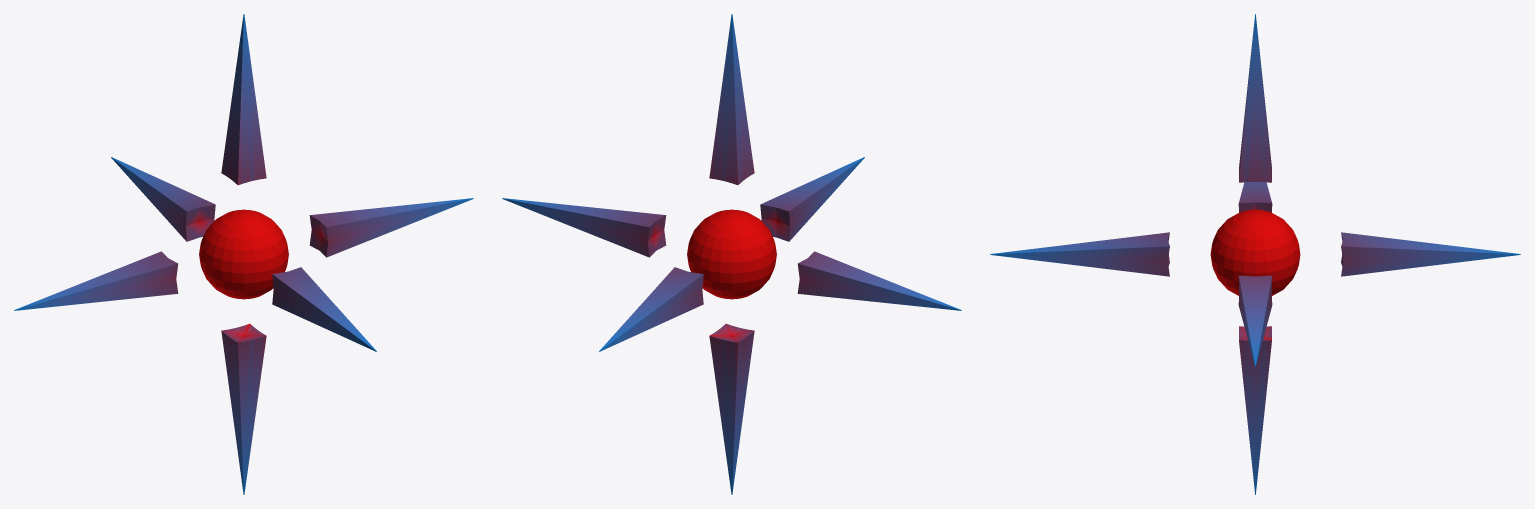
Rendered from joe.fbx.
3 views of the same model, side by side, from view 1: azimuth 30°, elevation 25°; view 2: azimuth 150°, elevation 25°; view 3: azimuth 270°, elevation 25° (orthographic).
Visible parts, largest first — view 1: joe; view 2: joe; view 3: joe.
Boxes of the visible parts, x1,y1,x2,y2 form: joe: [14, 14, 473, 494]; joe: [502, 14, 961, 494]; joe: [990, 14, 1520, 494].
Bounding box in the file's own units: 11.8 × 11.8 × 11.8.
